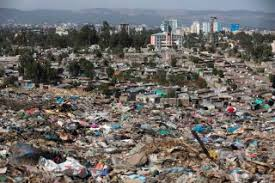garbage: (2, 82, 275, 182)
